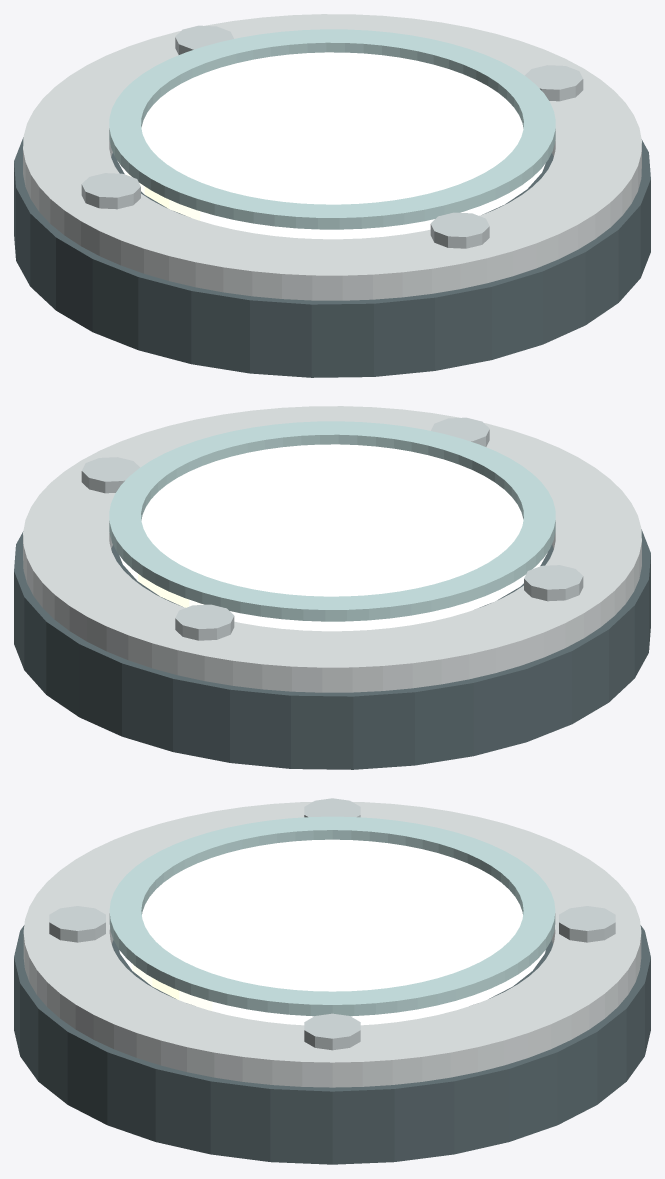
Rendered from s7-lf2-recessed-puck-warm.glb.
3 views of the same model, one above another, from view 1: azimuth 30°, elevation 25°; view 2: azimuth 150°, elevation 25°; view 3: azimuth 270°, elevation 25° (orthographic).
Visible parts, largest first — view 1: 001_annular_chrome_recess, 000_embedded_lowprofile_chassis, 002_top_emitter_glow, 003_diffuser_rim, 006_flush_mount_screw, 005_flush_mount_screw, 004_flush_mount_screw, 007_flush_mount_screw; view 2: 001_annular_chrome_recess, 000_embedded_lowprofile_chassis, 002_top_emitter_glow, 003_diffuser_rim, 006_flush_mount_screw, 007_flush_mount_screw, 004_flush_mount_screw, 005_flush_mount_screw; view 3: 001_annular_chrome_recess, 000_embedded_lowprofile_chassis, 002_top_emitter_glow, 003_diffuser_rim, 004_flush_mount_screw, 005_flush_mount_screw, 007_flush_mount_screw, 006_flush_mount_screw.
Boxes of the visible parts, x1=… form: 001_annular_chrome_recess: x1=23, y1=14, x2=641, y2=300; 000_embedded_lowprofile_chassis: x1=14, y1=137, x2=650, y2=377; 002_top_emitter_glow: x1=117, y1=52, x2=545, y2=239; 003_diffuser_rim: x1=109, y1=29, x2=555, y2=229; 006_flush_mount_screw: x1=81, y1=173, x2=140, y2=209; 005_flush_mount_screw: x1=430, y1=212, x2=489, y2=248; 004_flush_mount_screw: x1=525, y1=65, x2=583, y2=101; 007_flush_mount_screw: x1=175, y1=25, x2=233, y2=54; 001_annular_chrome_recess: x1=23, y1=406, x2=641, y2=692; 000_embedded_lowprofile_chassis: x1=14, y1=529, x2=650, y2=769; 002_top_emitter_glow: x1=119, y1=444, x2=547, y2=631; 003_diffuser_rim: x1=109, y1=421, x2=555, y2=621; 006_flush_mount_screw: x1=524, y1=565, x2=583, y2=601; 007_flush_mount_screw: x1=175, y1=604, x2=234, y2=640; 004_flush_mount_screw: x1=81, y1=457, x2=139, y2=493; 005_flush_mount_screw: x1=431, y1=417, x2=489, y2=446; 001_annular_chrome_recess: x1=23, y1=802, x2=641, y2=1087; 000_embedded_lowprofile_chassis: x1=14, y1=925, x2=650, y2=1164; 002_top_emitter_glow: x1=119, y1=839, x2=545, y2=1025; 003_diffuser_rim: x1=109, y1=816, x2=555, y2=1016; 004_flush_mount_screw: x1=304, y1=1013, x2=360, y2=1050; 005_flush_mount_screw: x1=49, y1=906, x2=105, y2=942; 007_flush_mount_screw: x1=559, y1=906, x2=615, y2=942; 006_flush_mount_screw: x1=304, y1=798, x2=360, y2=817.
Size of the model in its own units: 0.15 by 0.031 by 0.15.
